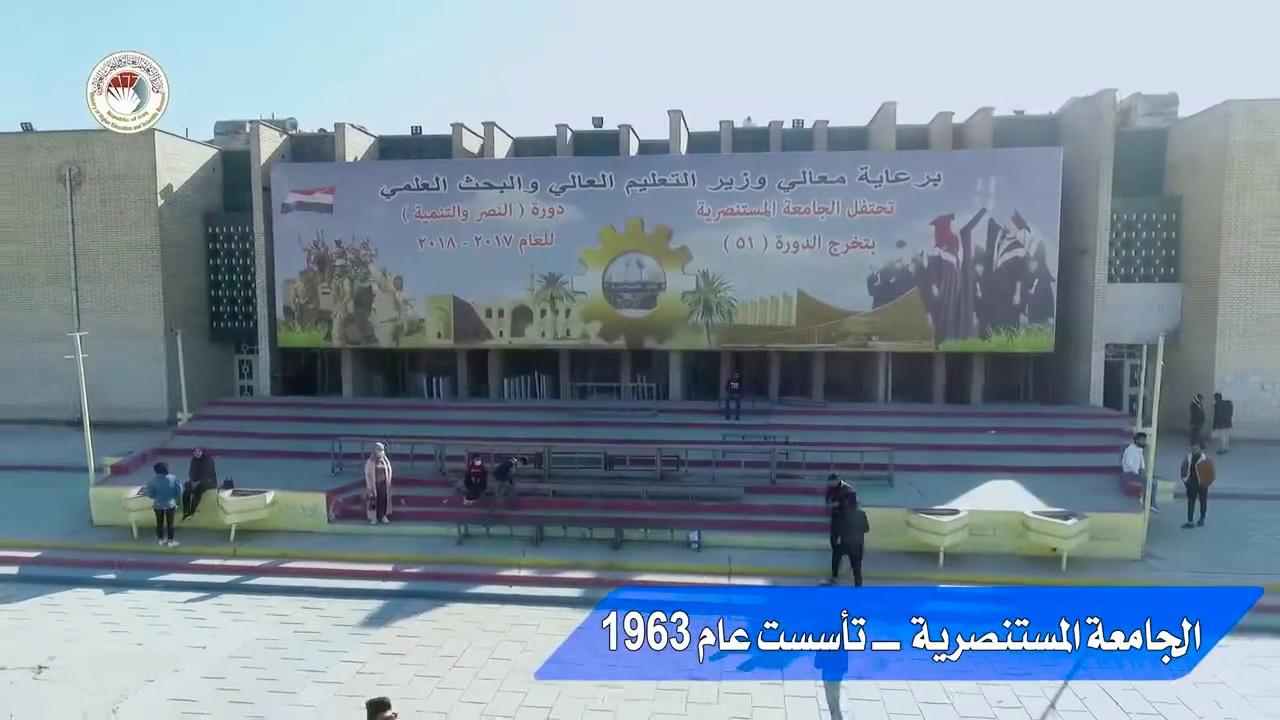fountain: (601, 251, 666, 317)
person: (828, 490, 869, 586), (1120, 431, 1160, 513), (145, 461, 183, 547), (1179, 440, 1215, 527), (180, 447, 217, 520), (813, 647, 848, 719), (363, 441, 392, 525), (1211, 391, 1233, 454), (462, 453, 487, 506), (493, 456, 519, 496), (1188, 393, 1205, 446), (724, 372, 742, 420), (365, 696, 397, 719)
tree: (680, 266, 737, 345), (526, 269, 586, 338)
